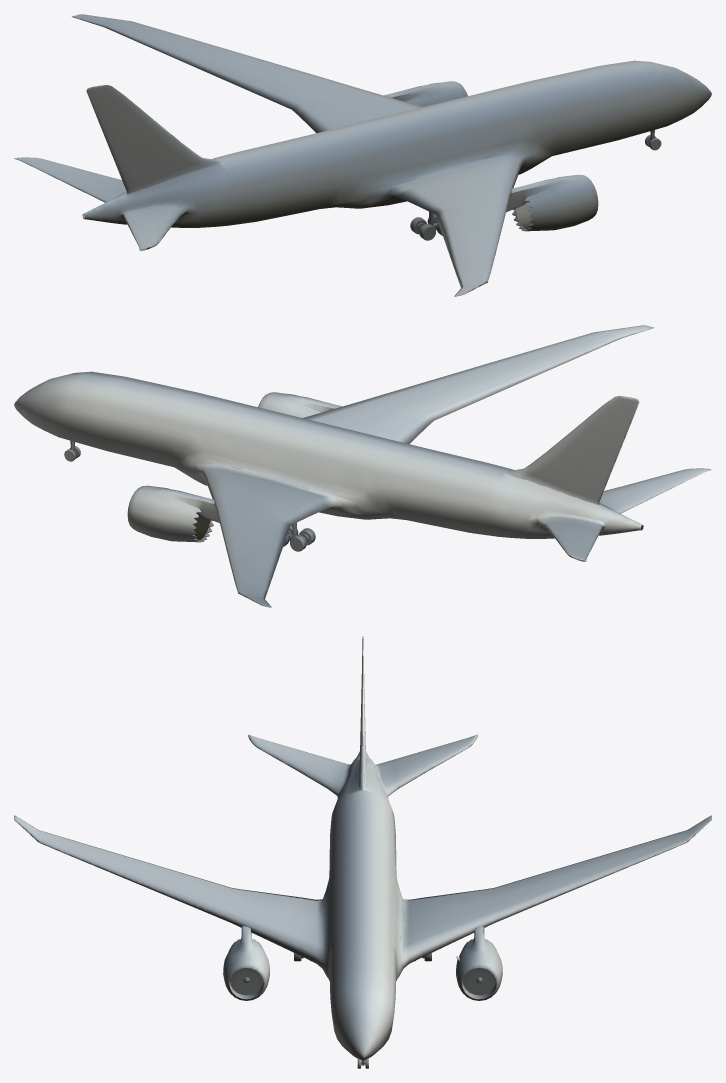
The model's file is airplane.gltf.
3 views of the same model, one above another, from view 1: azimuth 30°, elevation 25°; view 2: azimuth 150°, elevation 25°; view 3: azimuth 270°, elevation 25° (orthographic). The views are drawn at different scales.
Visible parts, largest first — view 1: polySurface1593; view 2: polySurface1593; view 3: polySurface1593.
Boxes of the visible parts, left/top/right/bottom form: polySurface1593: left=14, top=14, right=711, bottom=296; polySurface1593: left=14, top=325, right=711, bottom=607; polySurface1593: left=14, top=636, right=711, bottom=1068.
Size of the model in its own units: 47.99 by 14.38 by 50.12.
Materials: 1 (1 with a texture image).
